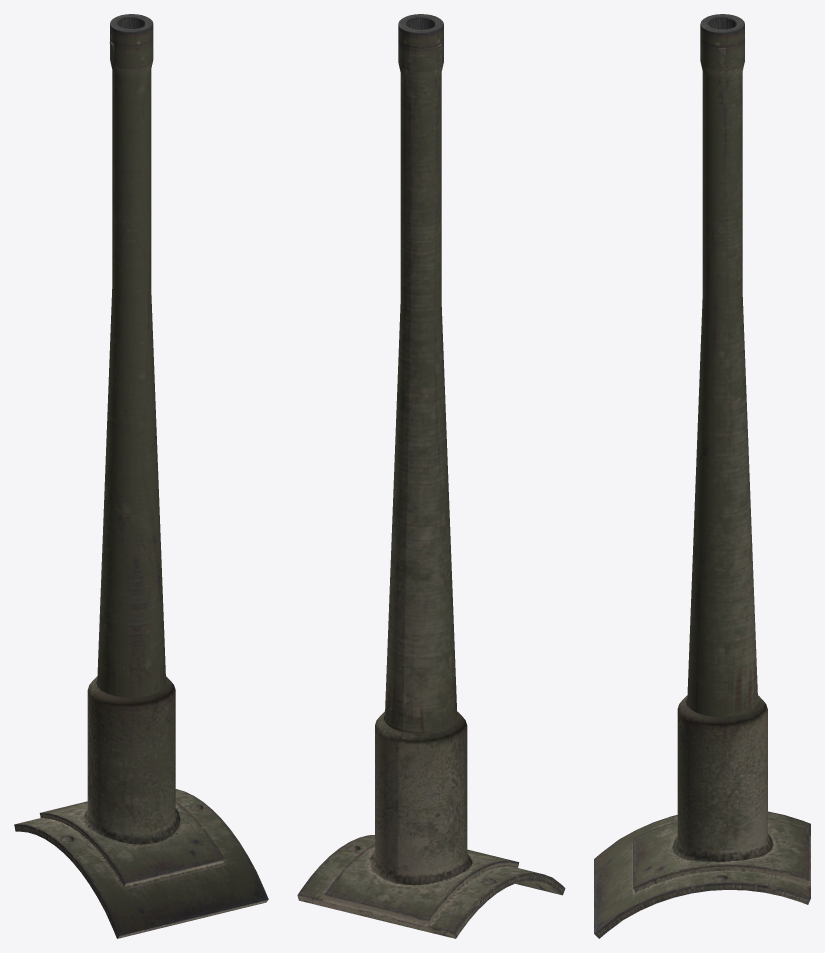
Rendered from Gun_01.glb.
The picture shows the model from 3 angles, left to right: view 1: azimuth 30°, elevation 25°; view 2: azimuth 150°, elevation 25°; view 3: azimuth 270°, elevation 25°; orthographic projection. The views are drawn at different scales.
Visible parts, largest first — view 1: set_0_group_0; view 2: set_0_group_0; view 3: set_0_group_0.
Part boxes in pixels (x1,y1,x2,y2): set_0_group_0: (14, 14, 268, 938); set_0_group_0: (297, 14, 565, 938); set_0_group_0: (594, 14, 810, 938).
Bounding box in the file's own units: 0.8238 × 4.51 × 1.01.
Materials: 1 (1 with a texture image).
